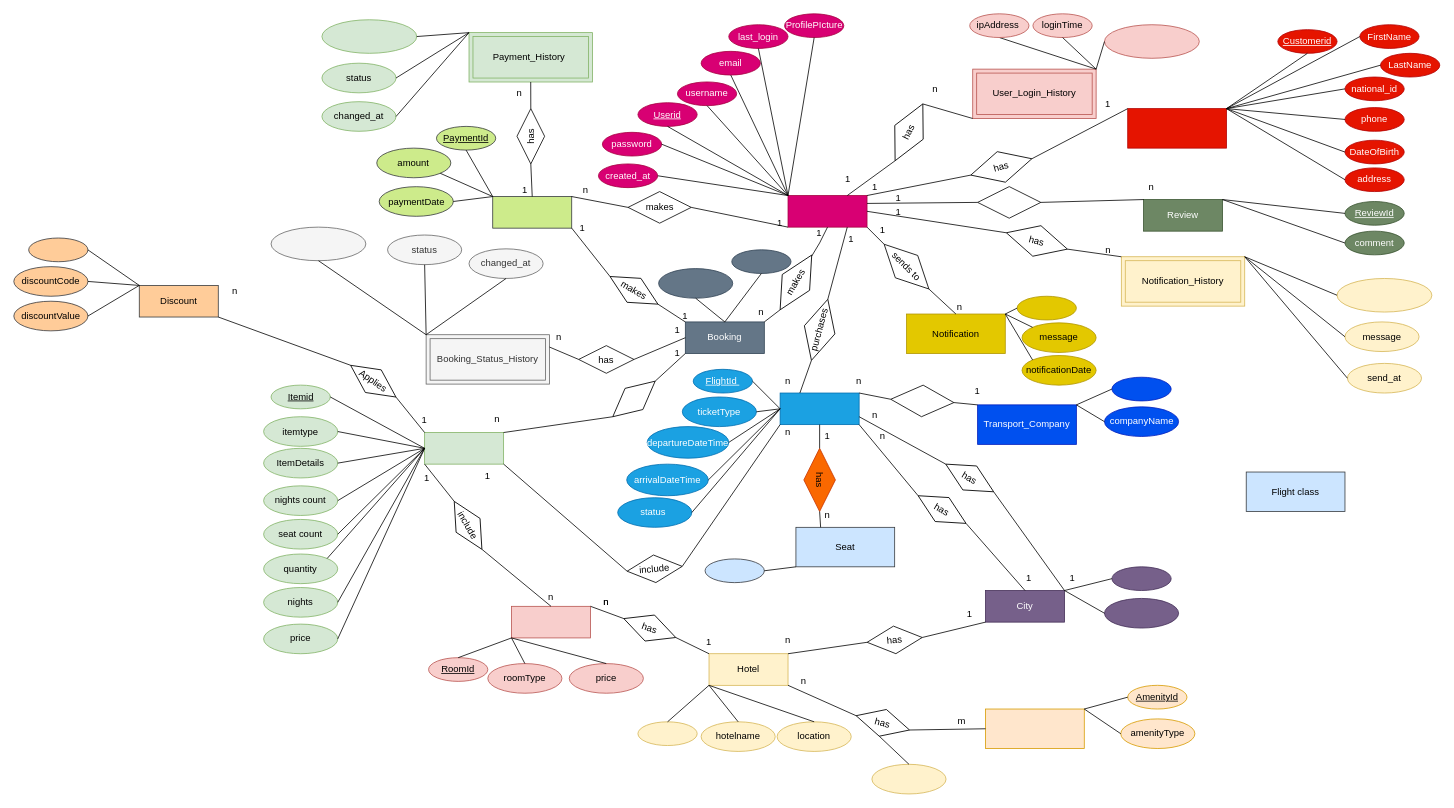
This 1454x808 diagram has some shape labels left out. The shapes that lost their labels are listed below. From the top down, each one's box as (x1, y1, x2, y2) in pixels, then its label:
(321, 19, 417, 53): Payment HistoryId
(1104, 24, 1199, 58): UserLogin HistoryId
(1127, 108, 1226, 148): Customer
(492, 196, 572, 228): Payment
(787, 195, 867, 227): User
(977, 186, 1041, 218): Writes
(28, 237, 88, 262): DiscountId
(270, 226, 366, 261): BookingHistoryId
(731, 249, 791, 273): BookingId
(658, 268, 733, 298): bookingDate
(1336, 278, 1432, 312): Notification HistoryId
(1016, 295, 1076, 320): NotificationId
(603, 370, 664, 427): contains
(779, 392, 859, 425): Flight
(889, 383, 955, 418): provides
(1111, 376, 1171, 401): CompanyId
(424, 432, 504, 464): Booking_Item
(704, 558, 764, 583): SeatId
(1111, 566, 1171, 591): CityId
(511, 606, 591, 638): Room
(1104, 598, 1179, 628): cityName
(637, 721, 697, 746): HotelId
(985, 708, 1084, 749): Hotel Amenity
(871, 764, 946, 794): extraCost
